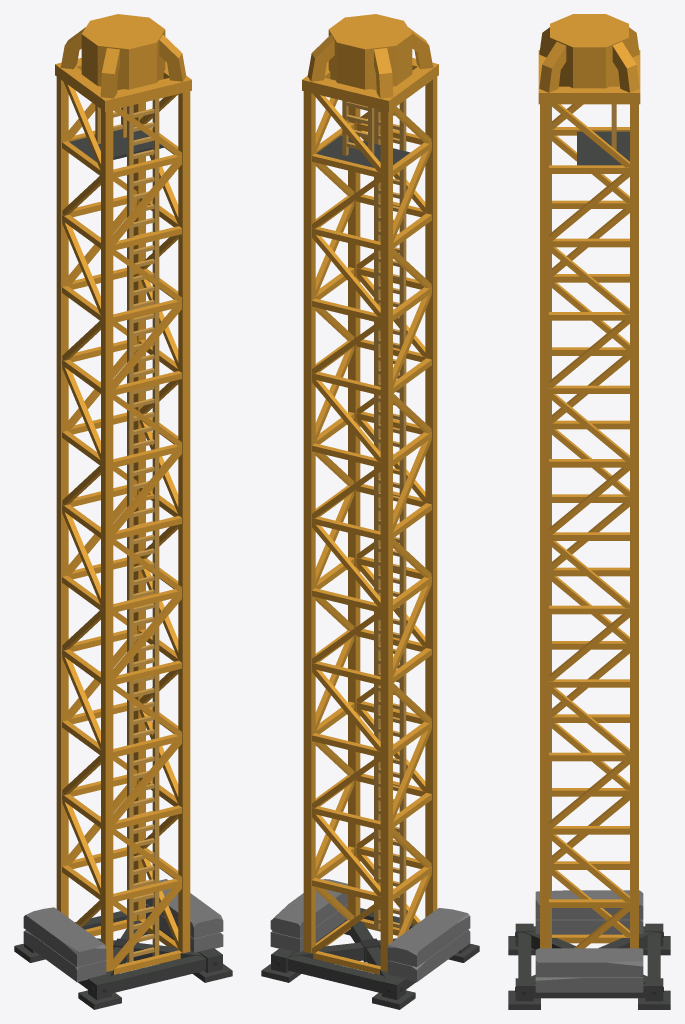
Rendered from SM_Props_TowerCrane_01.glb.
The picture shows the model from 3 angles, left to right: view 1: azimuth 30°, elevation 25°; view 2: azimuth 150°, elevation 25°; view 3: azimuth 270°, elevation 25°; orthographic projection.
Parts seen in each view (by area): view 1: SM_Props_TowerCrane_01; view 2: SM_Props_TowerCrane_01; view 3: SM_Props_TowerCrane_01.
Part boxes in pixels (box(x1,y1,x2,y2)): SM_Props_TowerCrane_01: box(14, 14, 232, 1009); SM_Props_TowerCrane_01: box(261, 14, 479, 1009); SM_Props_TowerCrane_01: box(508, 14, 670, 1009).
Bounding box in the file's own units: 2.64 × 16.09 × 2.5.
1 material, 1 textured.
